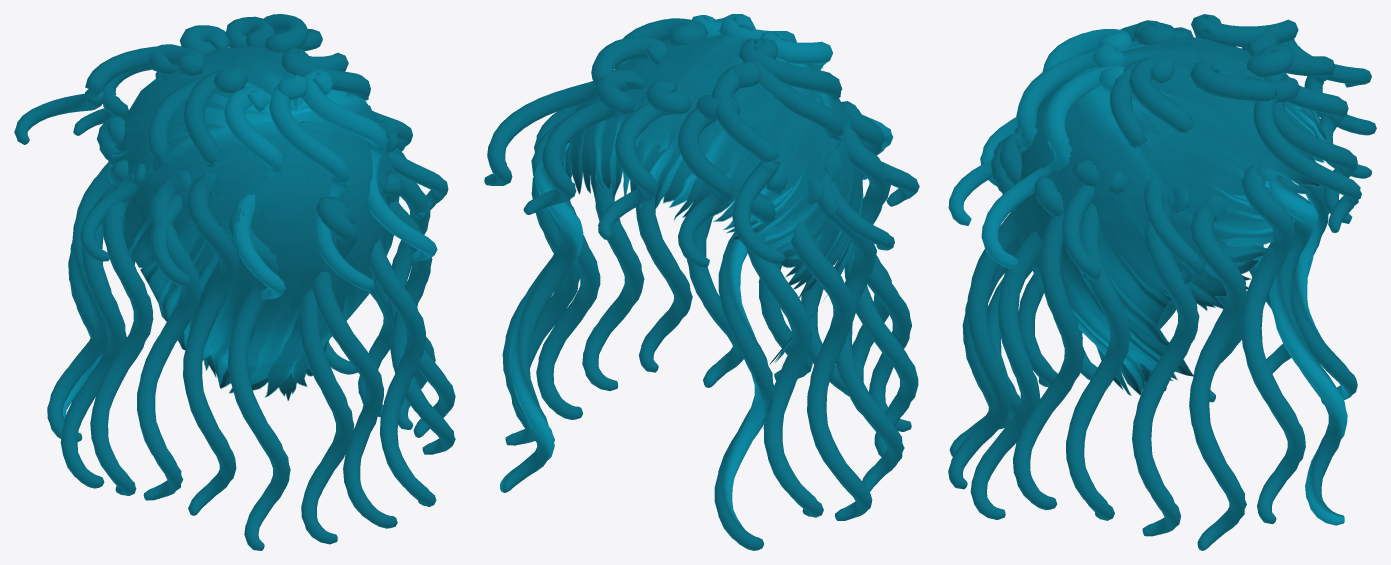
Rendered from hair.glb.
3 views of the same model, side by side, from view 1: azimuth 30°, elevation 25°; view 2: azimuth 150°, elevation 25°; view 3: azimuth 270°, elevation 25° (orthographic). The views are drawn at different scales.
Visible parts, largest first — view 1: male-medium-curls-v1; view 2: male-medium-curls-v1; view 3: male-medium-curls-v1.
Boxes of the visible parts, x1=… form: male-medium-curls-v1: x1=14, y1=14, x2=455, y2=550; male-medium-curls-v1: x1=484, y1=14, x2=919, y2=550; male-medium-curls-v1: x1=948, y1=14, x2=1376, y2=550.
Bounding box in the file's own units: 0.2766 × 0.3182 × 0.2847.
1 material, 1 textured.
